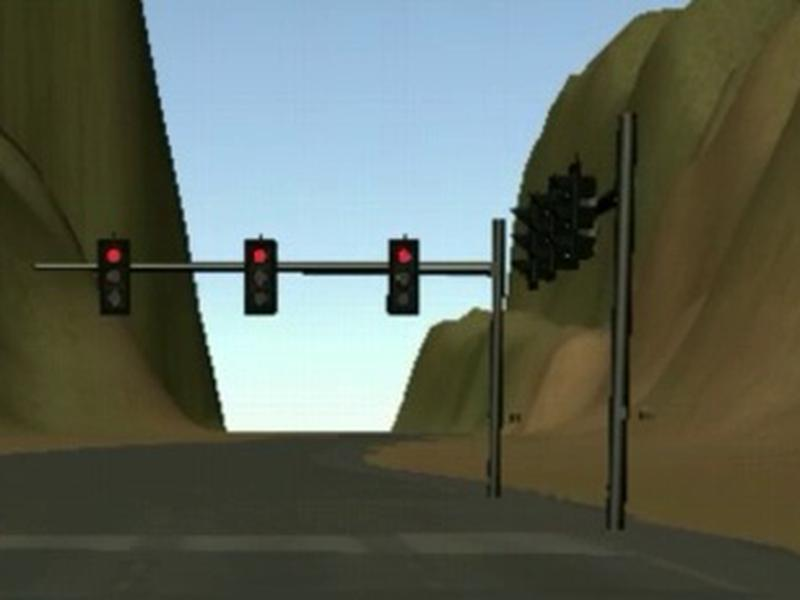Red: (244, 239, 278, 315), (96, 240, 129, 316), (386, 239, 419, 315)
